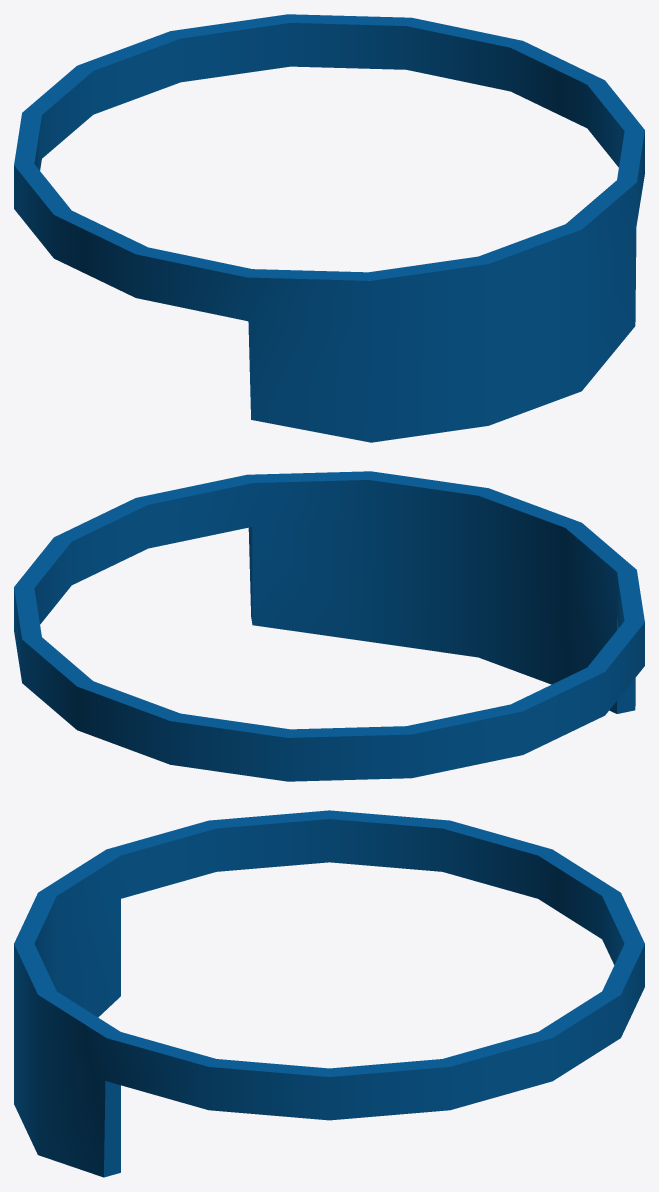
File: Body_Prop_Cooking_Apron_Bib_01_C02.fbx
3 views of the same model, one above another, from view 1: azimuth 30°, elevation 25°; view 2: azimuth 150°, elevation 25°; view 3: azimuth 270°, elevation 25° (orthographic).
Visible parts, largest first — view 1: Body_Prop_Cooking_Apron_Bib_01_C02; view 2: Body_Prop_Cooking_Apron_Bib_01_C02; view 3: Body_Prop_Cooking_Apron_Bib_01_C02.
Part boxes in pixels (box(x1,y1,x2,y2)): Body_Prop_Cooking_Apron_Bib_01_C02: box(14, 14, 644, 442); Body_Prop_Cooking_Apron_Bib_01_C02: box(14, 471, 644, 781); Body_Prop_Cooking_Apron_Bib_01_C02: box(14, 810, 644, 1177).
Size of the model in its own units: 102 by 28.62 by 102.
